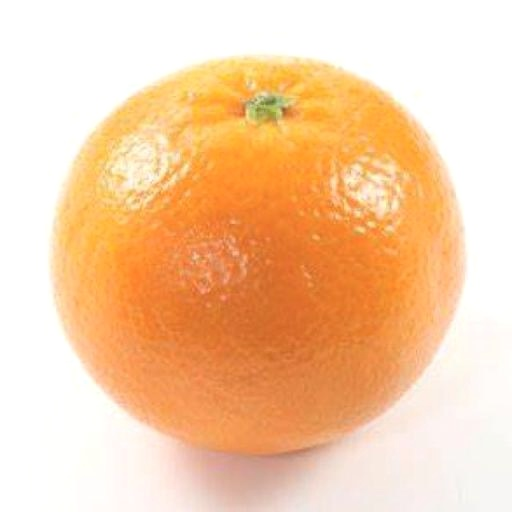fruit: (52, 58, 463, 453)
